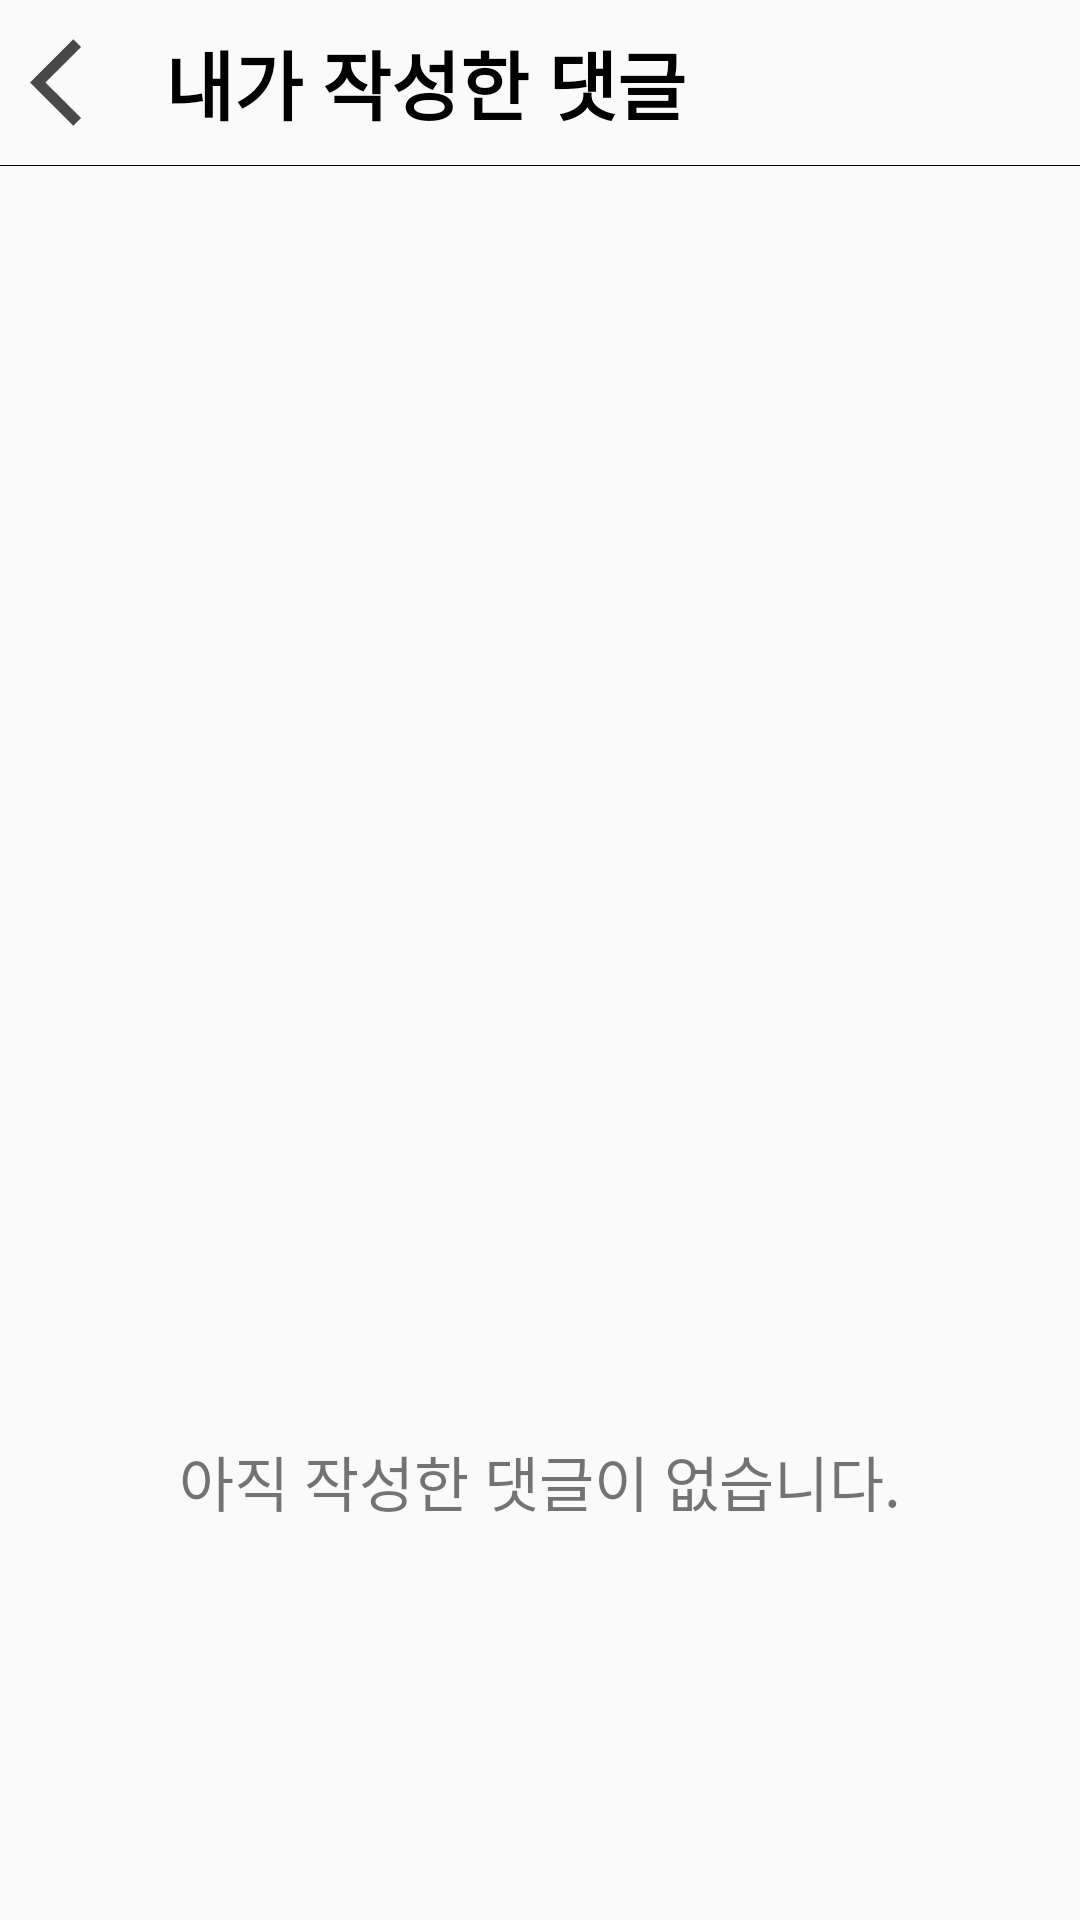

Where to tap for icons on this 1080 × 1920 app screen, as [x,y]:
arrow back: [55,82]
